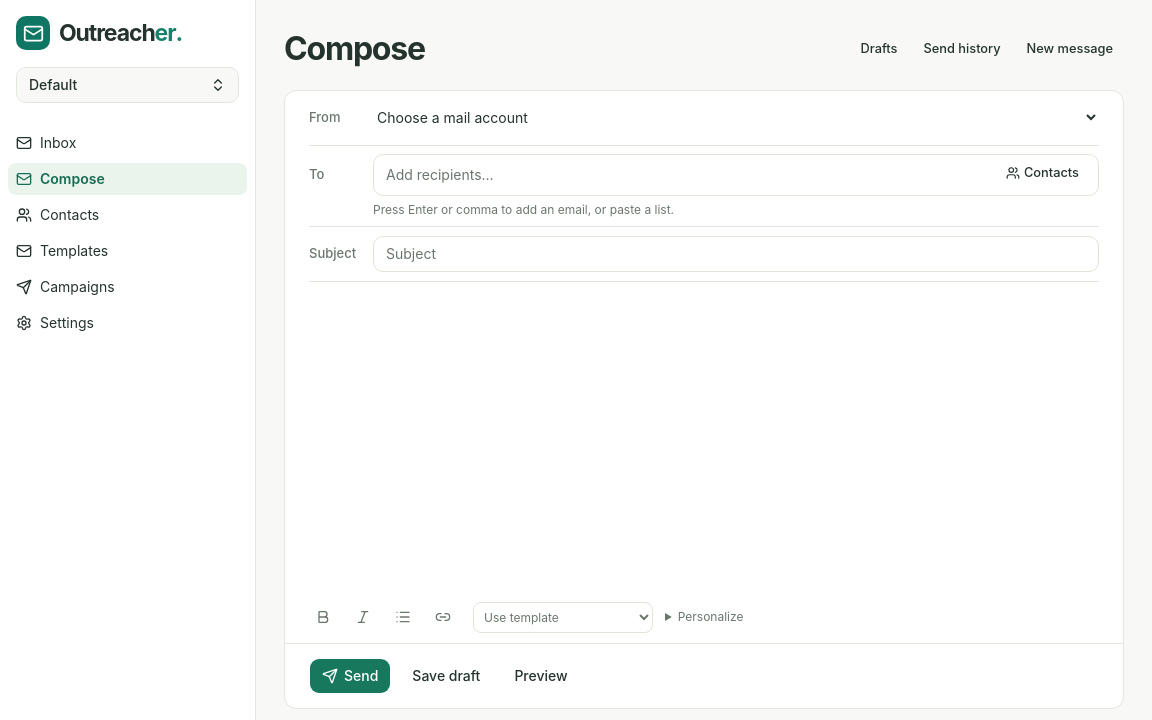
Scenario: includes an uncommitted address when saving an incomplete draft
Type "unfinished@example.com" into the field named "Email addresses" at {"x": 684, "y": 175}, box x1=382 y1=159 x2=987 y2=191
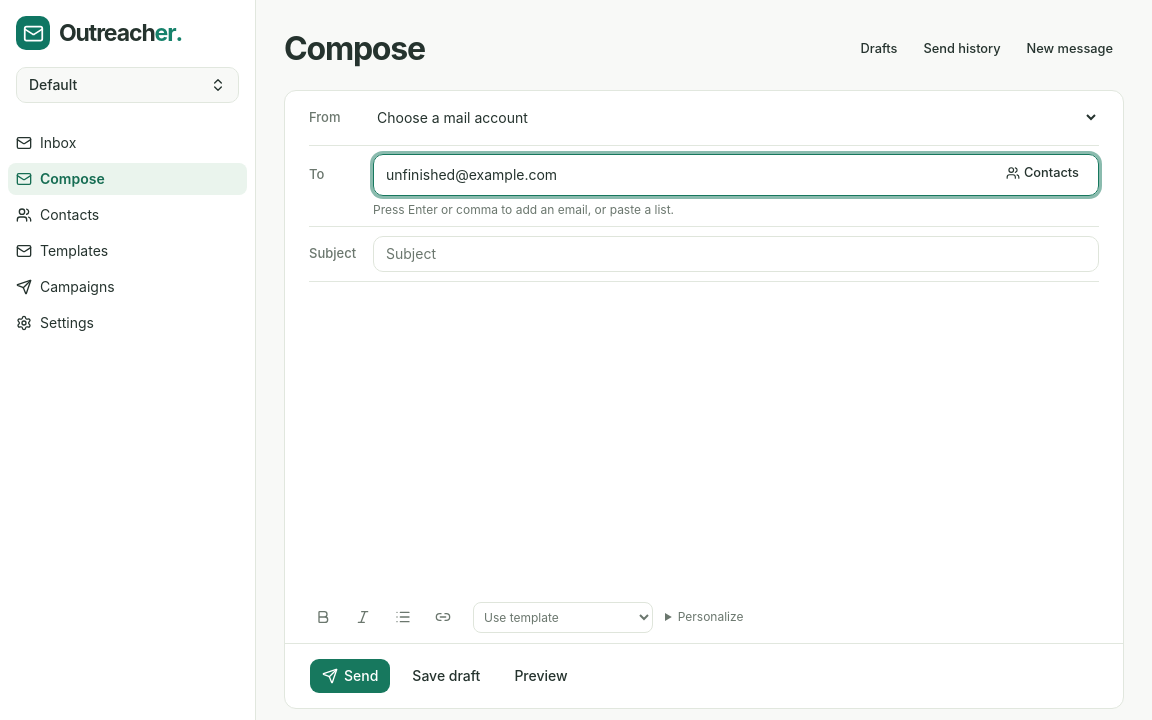
Click the button "Save draft" at {"x": 446, "y": 676}, box x1=399 y1=658 x2=493 y2=694
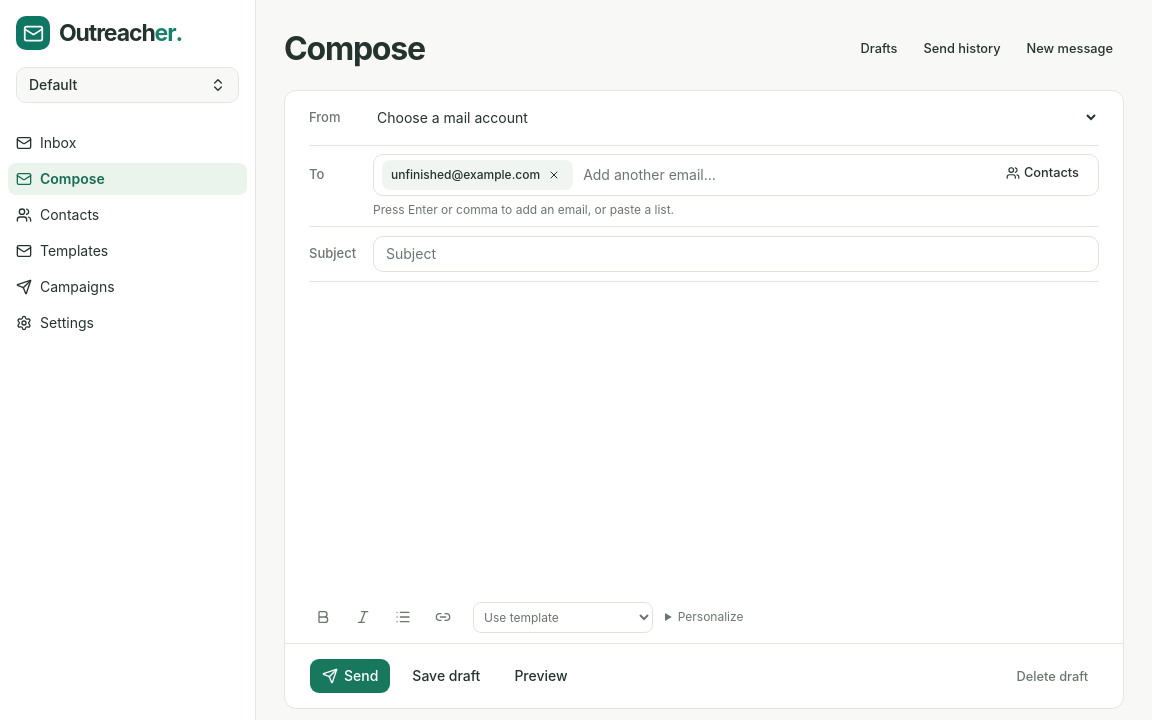
Now the button named "Remove unfinished@example.com" is shown, box x1=544 y1=165 x2=564 y2=185
